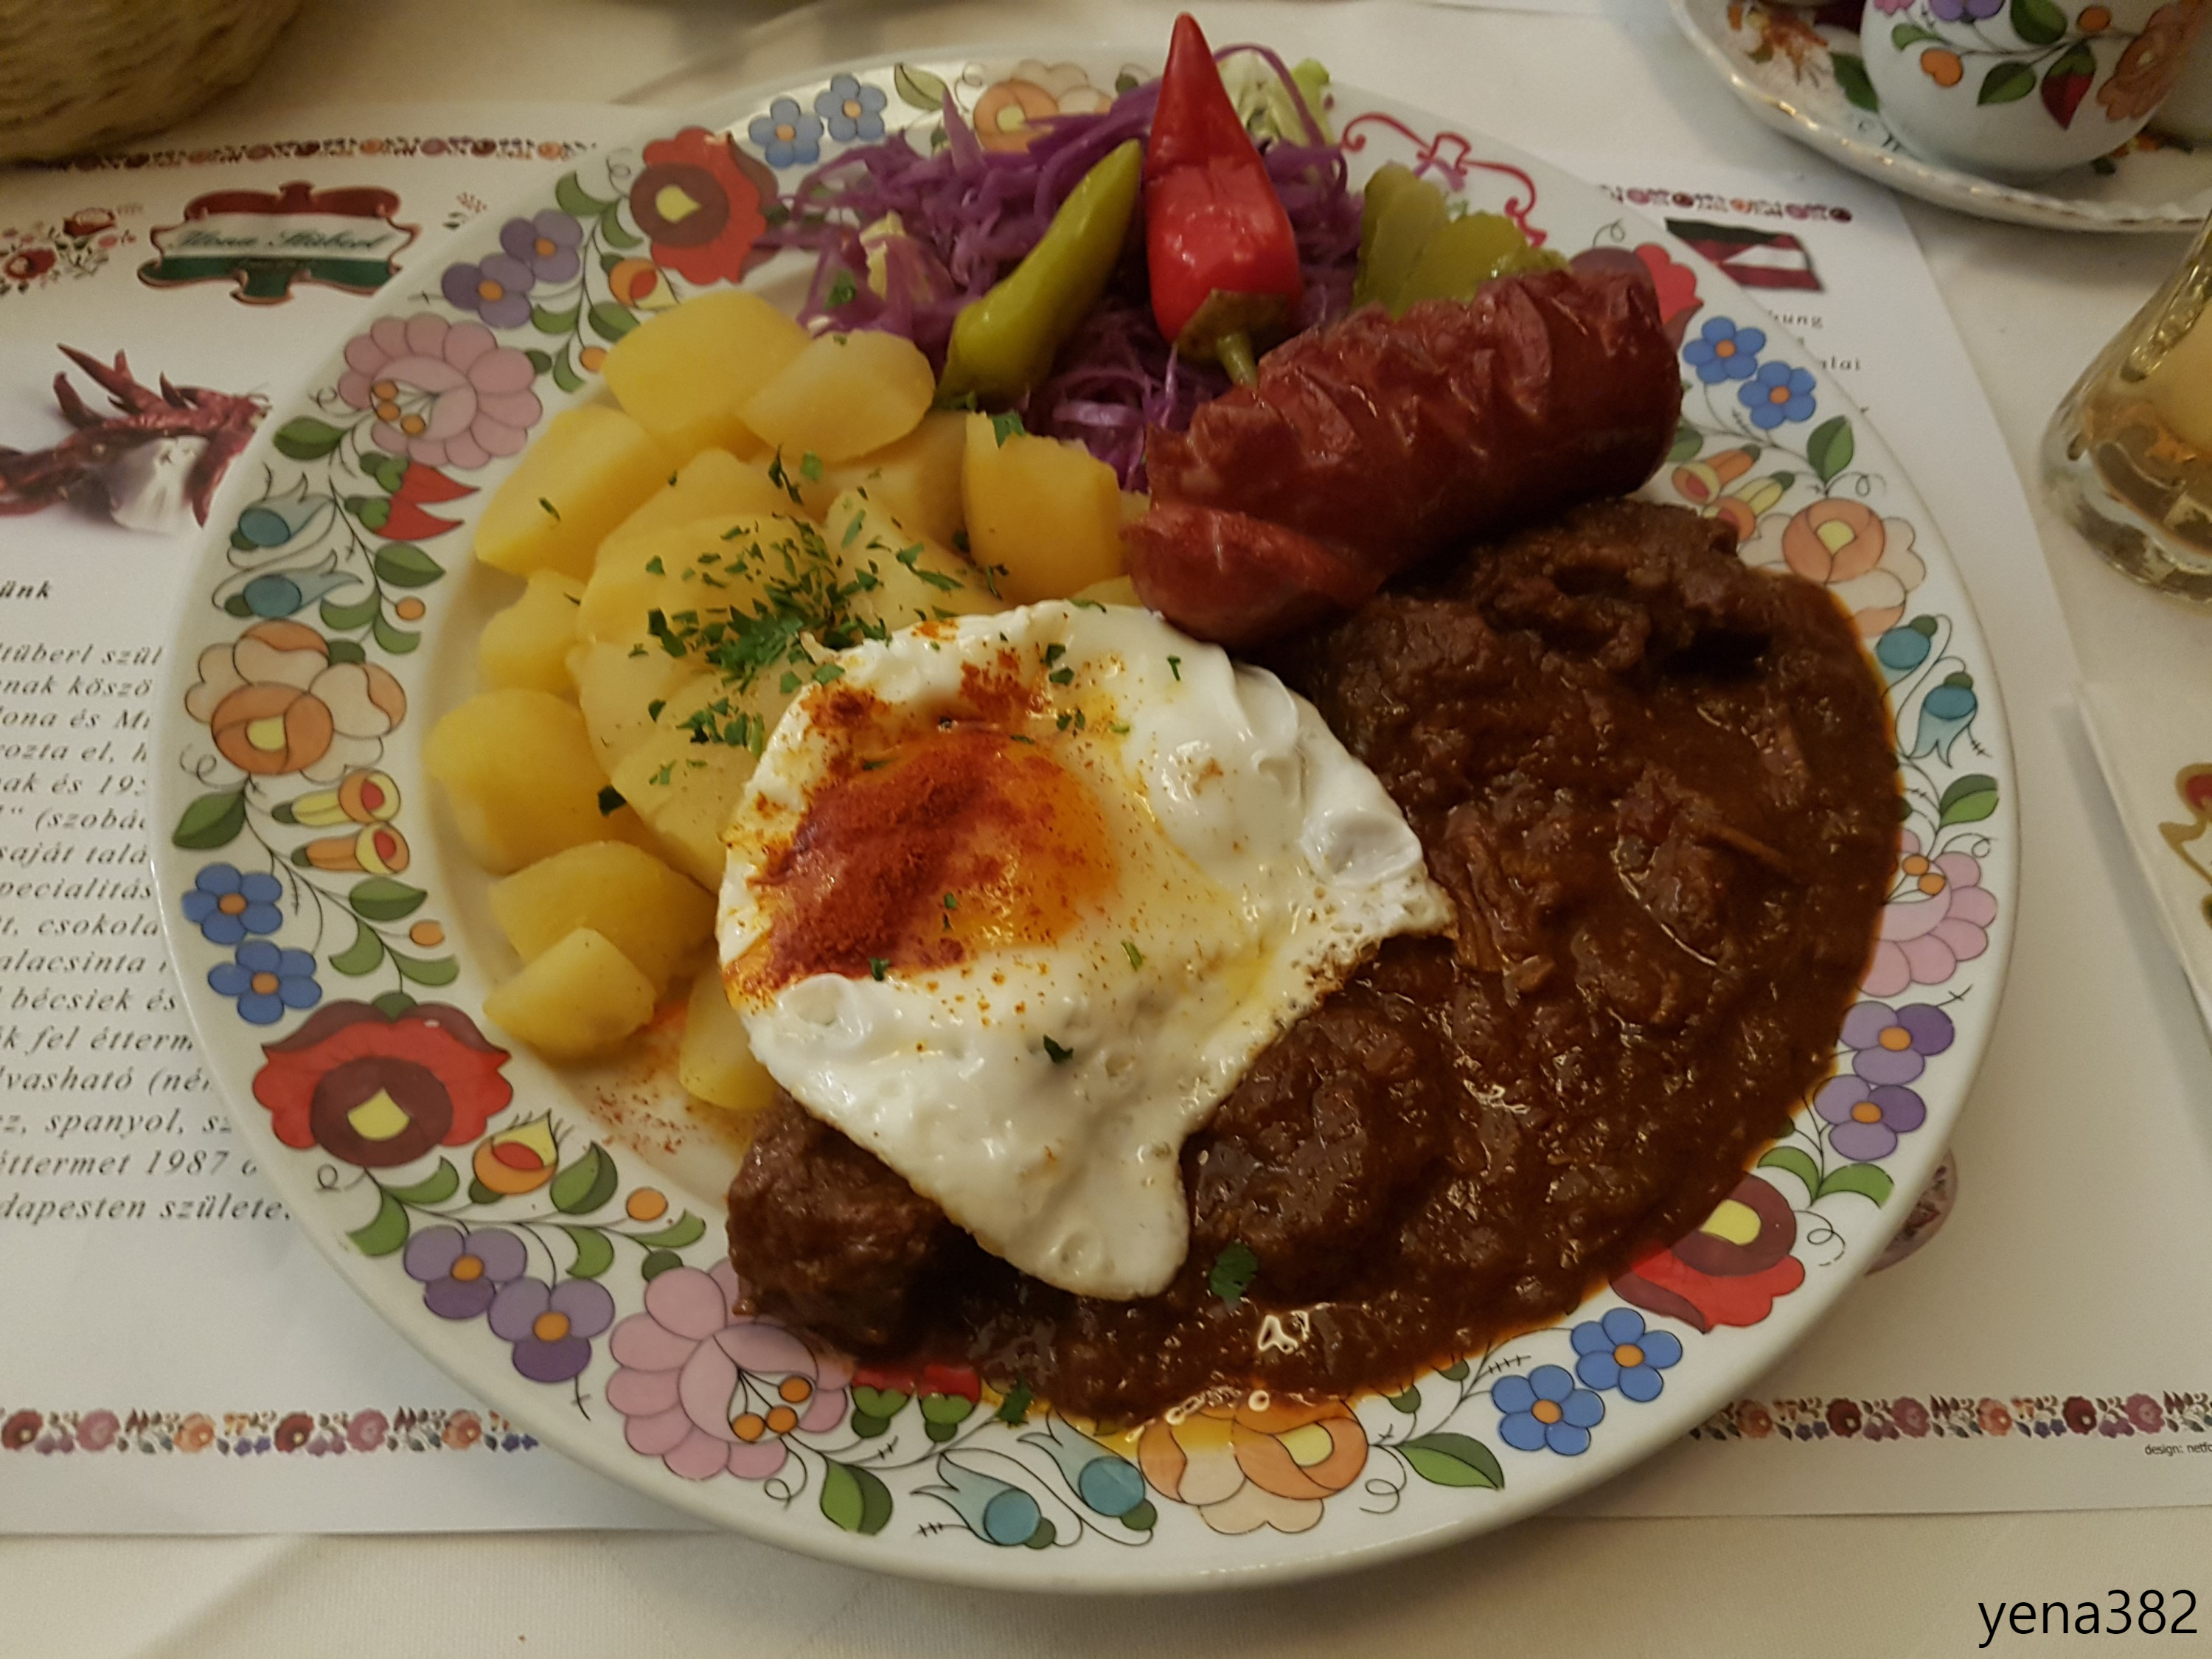boiled potatoes: (596, 387, 867, 636)
fried egg: (845, 676, 1247, 1089)
